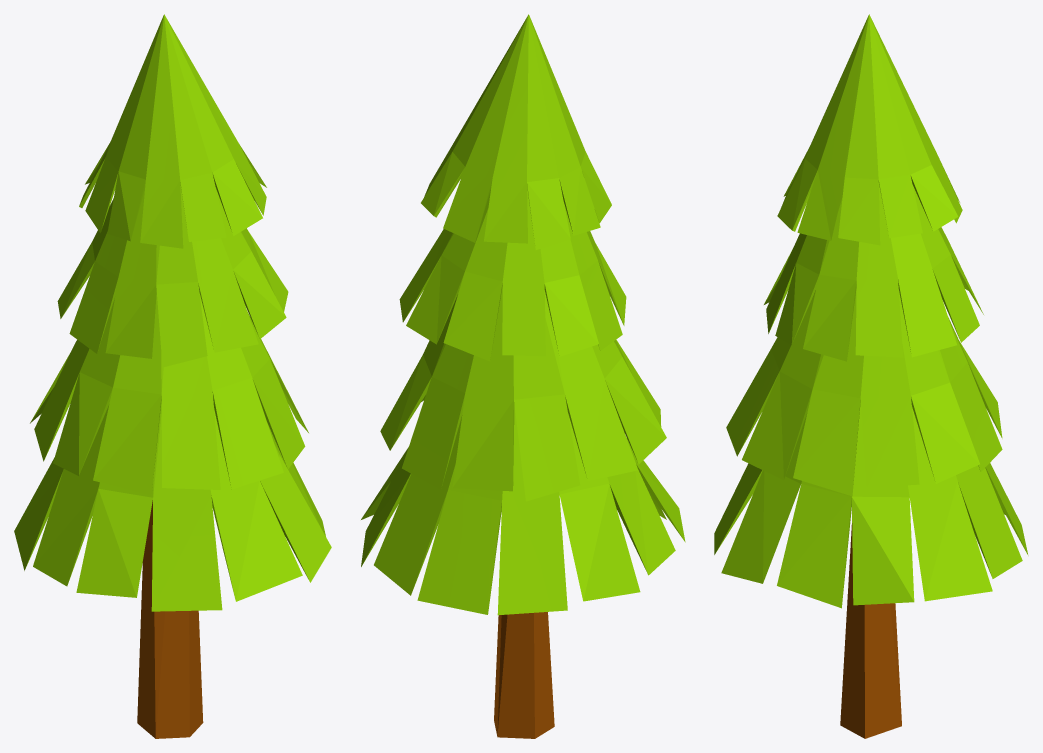
File: Tree.fbx
The picture shows the model from 3 angles, left to right: view 1: azimuth 30°, elevation 25°; view 2: azimuth 150°, elevation 25°; view 3: azimuth 270°, elevation 25°; orthographic projection.
Parts seen in each view (by area): view 1: Tree_02_LOD0; view 2: Tree_02_LOD0; view 3: Tree_02_LOD0.
Boxes of the visible parts, bbox=[...] form: Tree_02_LOD0: bbox=[14, 14, 331, 738]; Tree_02_LOD0: bbox=[361, 14, 685, 738]; Tree_02_LOD0: bbox=[714, 14, 1028, 738].
Bounding box in the file's own units: 0.4943 × 0.5025 × 1.25.
